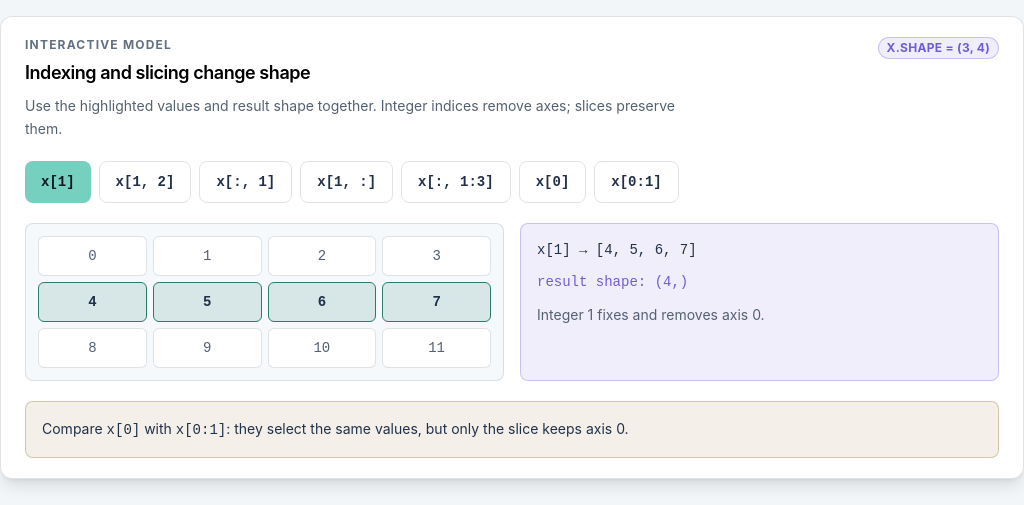
Test: array interactives › distinguishes integer indexing from a one-position slice
Click the button "x[0:1]" at (636, 182), box [594, 160, 679, 202]
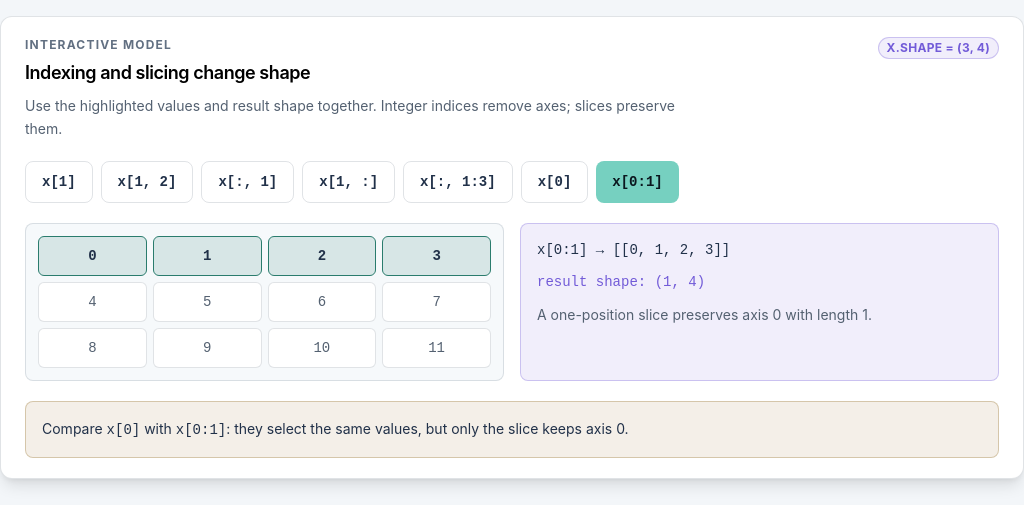
Result: the message shows "result shape: (1, 4)" at [520, 222, 999, 380]
Result: the message shows "preserves axis 0" at [537, 306, 872, 322]
